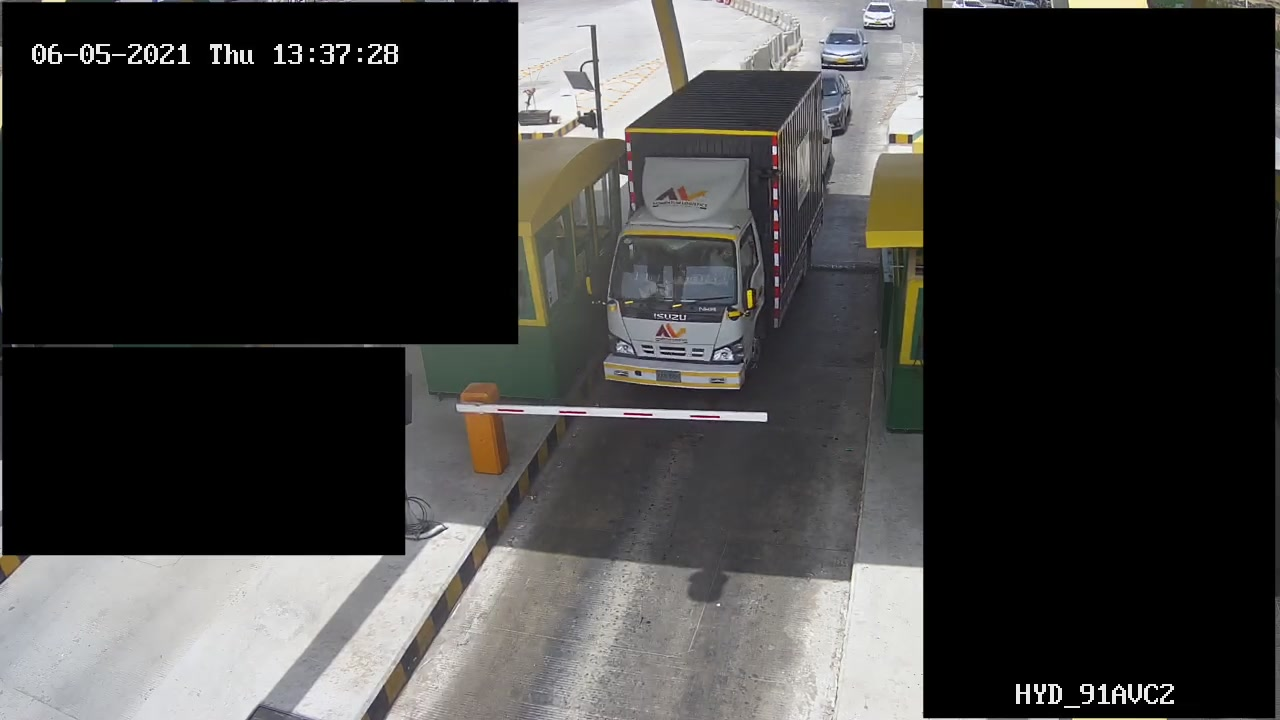F5: (595, 64, 829, 397)
